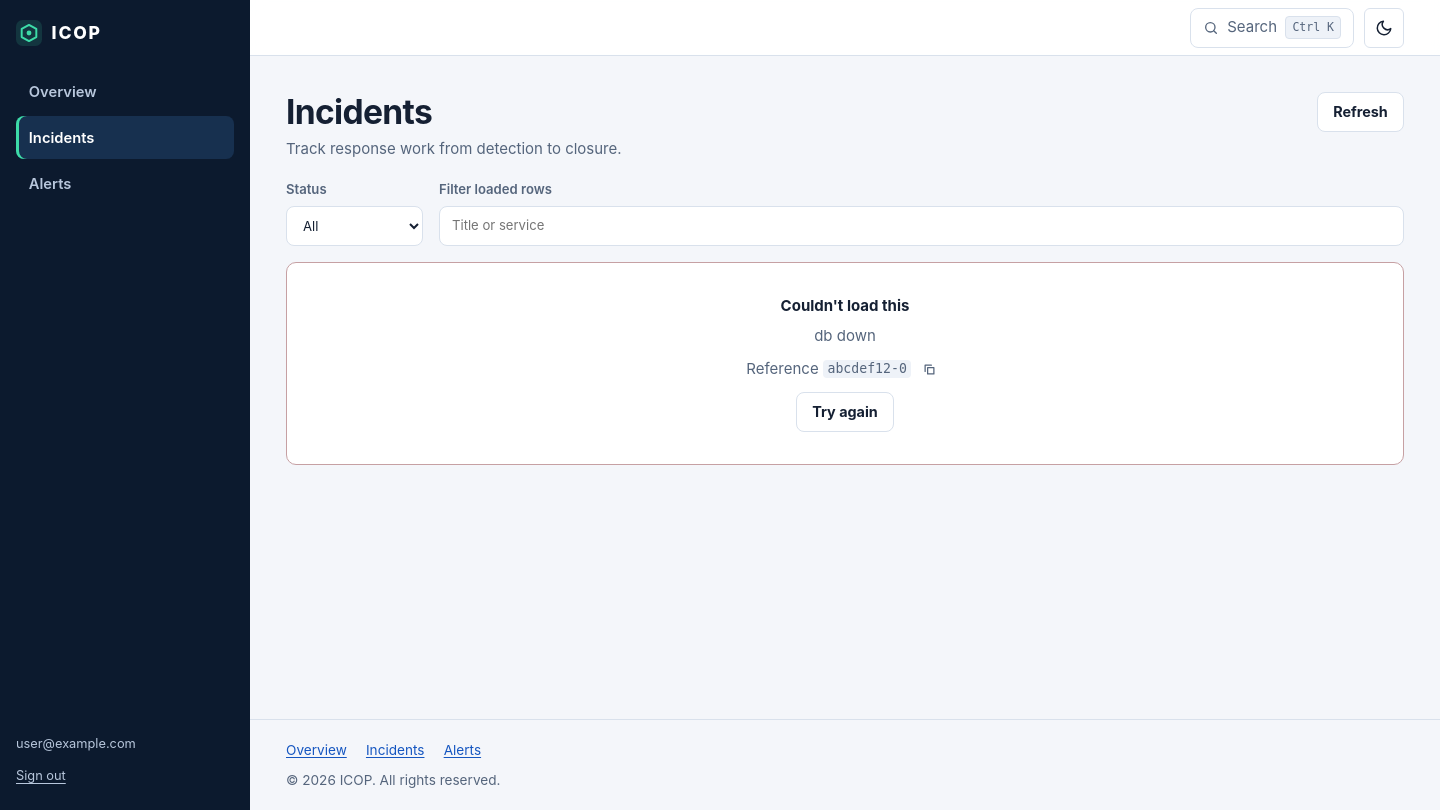
Scenario: incidents › shows an empty state and an error state with retry
Expected: the text "Couldn't load this" is shown, x1=781 y1=295 x2=909 y2=317
Expected: the text "abcdef12-0" is shown, x1=823 y1=360 x2=912 y2=378
Step 1. Click the button "Try again" → point(845, 412), box x1=796 y1=392 x2=894 y2=432
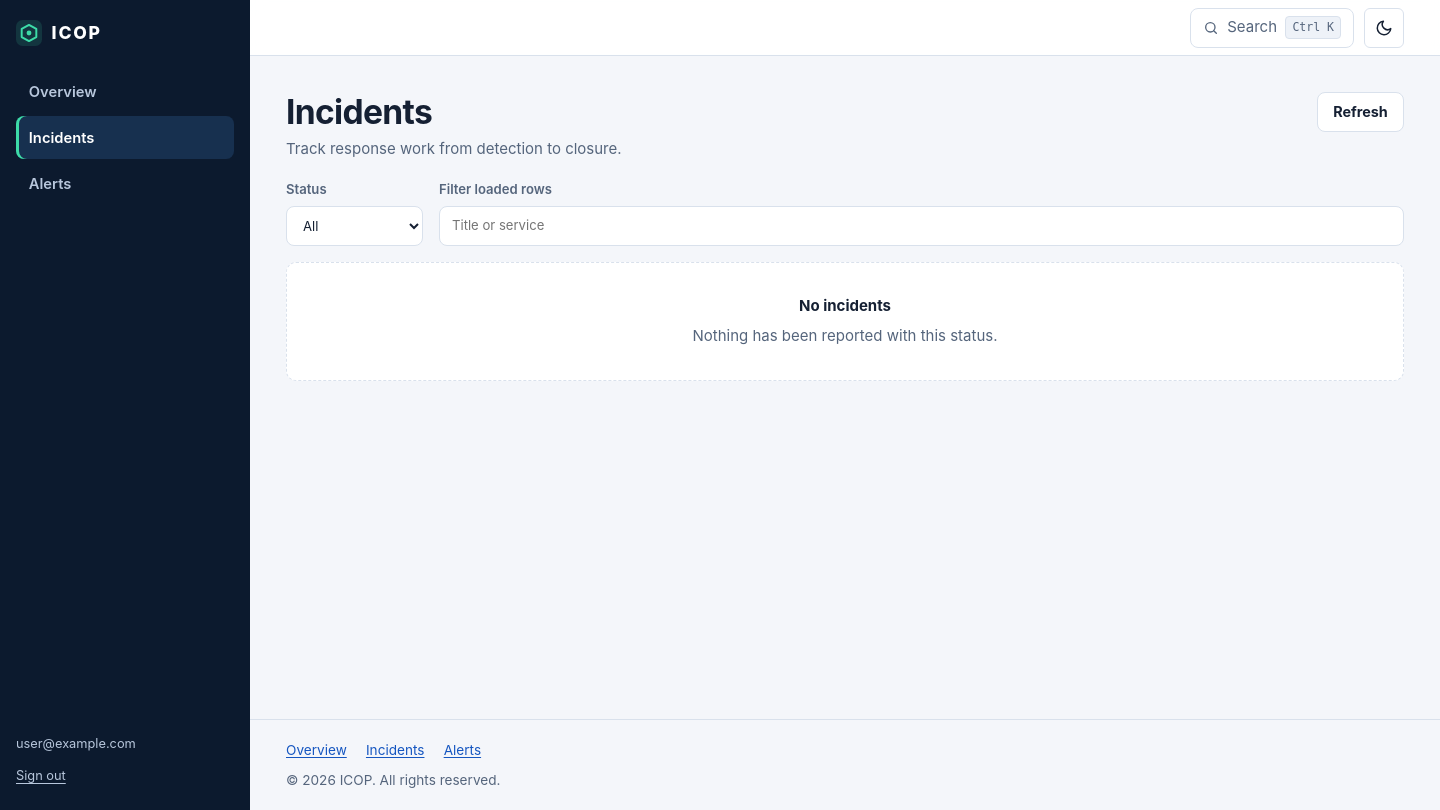
Expected: the text "No incidents" is shown, x1=799 y1=295 x2=891 y2=317
